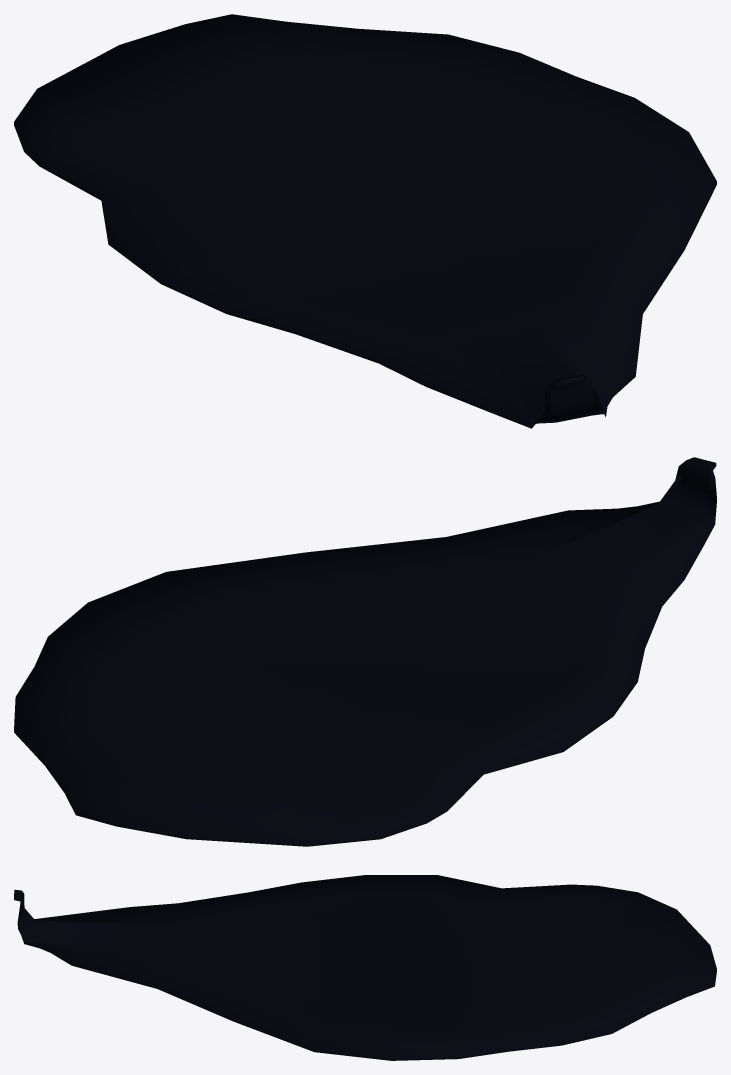
3 views of the same model, one above another, from view 1: azimuth 30°, elevation 25°; view 2: azimuth 150°, elevation 25°; view 3: azimuth 270°, elevation 25° (orthographic). The views are drawn at different scales.
Visible parts, largest first — view 1: defaultMaterial; view 2: defaultMaterial; view 3: defaultMaterial.
Boxes of the visible parts, x1=… form: defaultMaterial: x1=14, y1=14, x2=716, y2=428; defaultMaterial: x1=14, y1=457, x2=716, y2=846; defaultMaterial: x1=14, y1=875, x2=716, y2=1060.
Bounding box in the file's own units: 107 × 9.96 × 172.
Materials: 1 (1 with a texture image).
